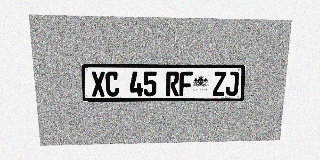4: (129, 71, 143, 96)
5: (143, 71, 156, 96)
C: (105, 71, 119, 97)
F: (179, 71, 192, 96)
J: (225, 72, 239, 96)
R: (166, 71, 179, 96)
X: (91, 71, 105, 97)
Z: (212, 72, 226, 96)
